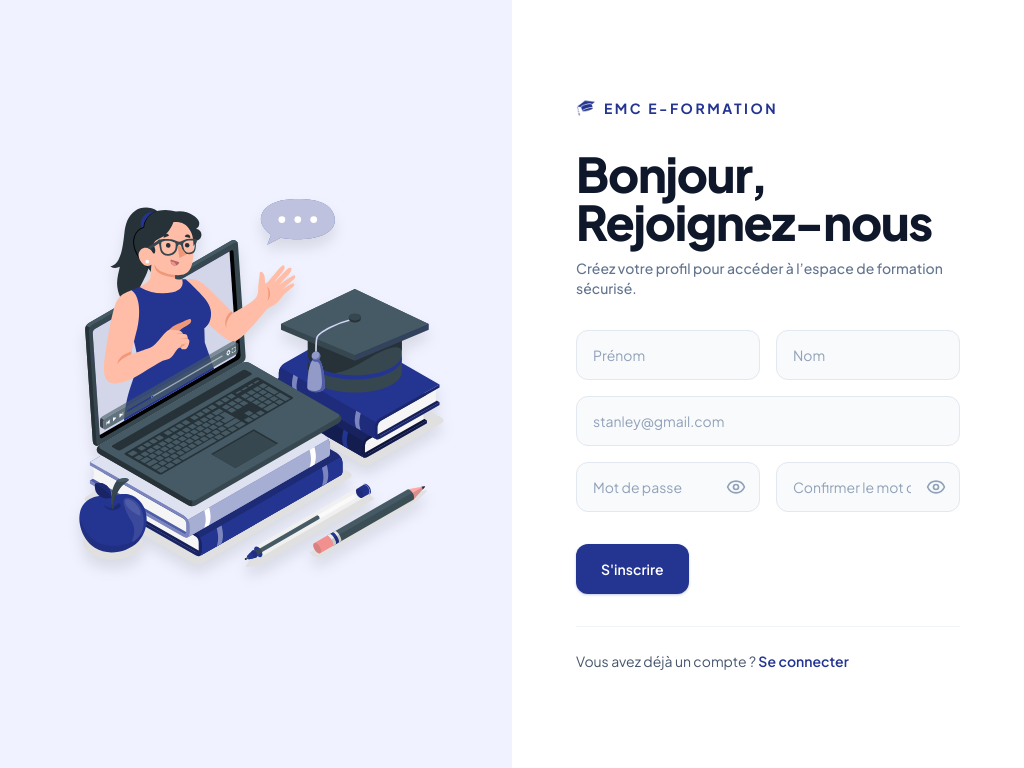
Test case: Intégration — authentification › crée un compte et affiche le message d’activation
The image size is (1024, 768).
Type "Sara" into the field with placeholder "Prénom".
click(668, 354); type("Sara")  # box [576, 330, 760, 380]
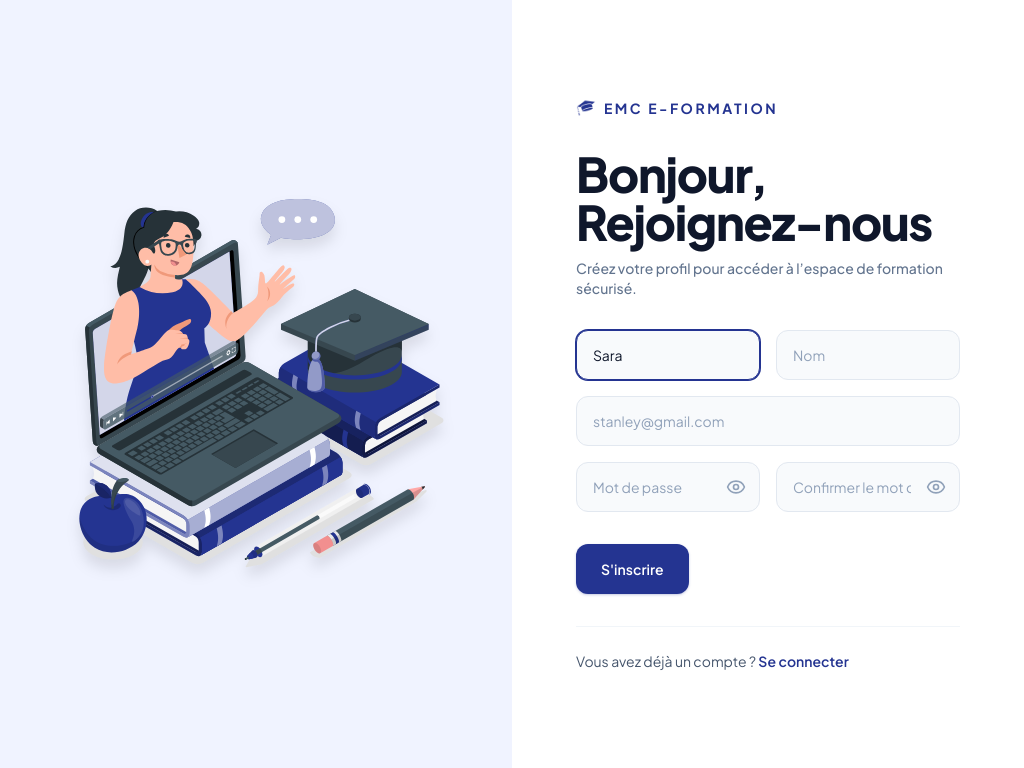
Type "Amrani" into the field with placeholder "Nom".
click(868, 354); type("Amrani")  # box [776, 330, 960, 380]
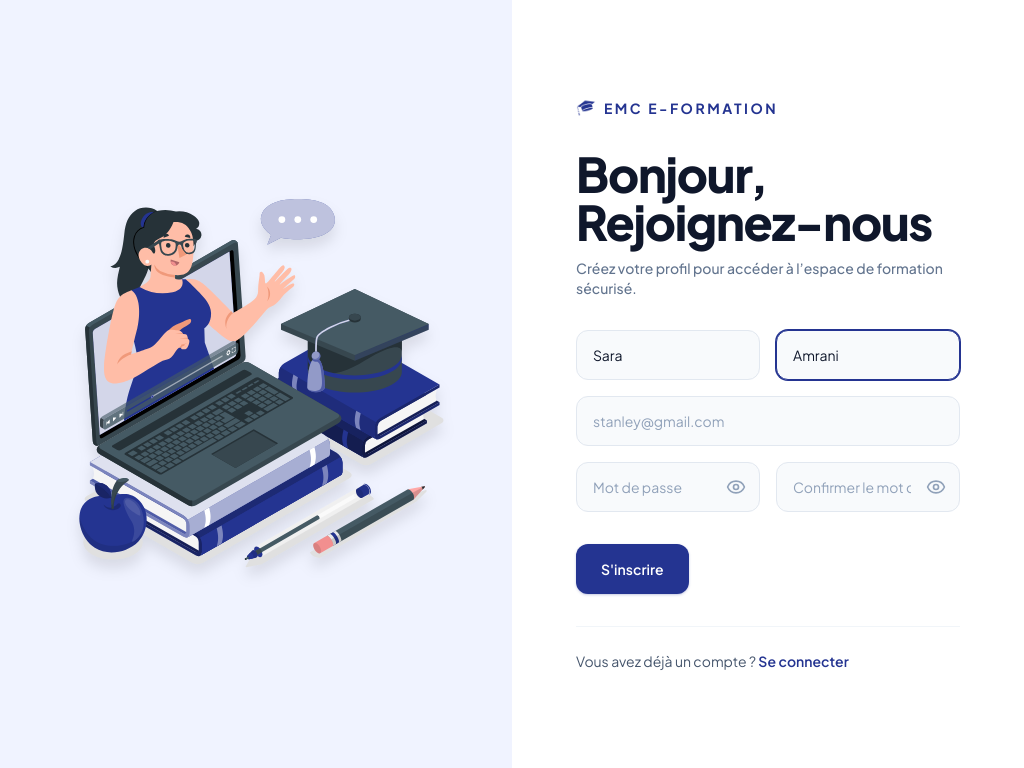
Type "sara@example.com" into the field with placeholder "stanley@gmail.com".
click(768, 420); type("sara@example.com")  # box [576, 396, 960, 446]
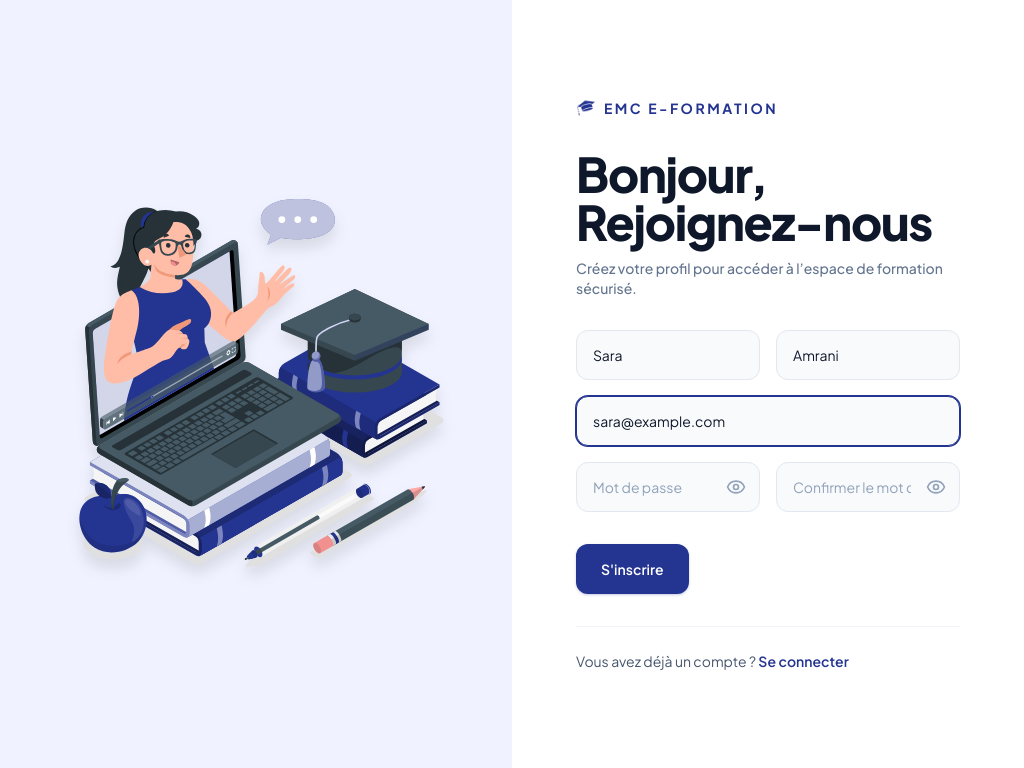
Type "Password1!" into the password field with placeholder "Mot de passe".
click(668, 486); type("Password1!")  # box [576, 462, 760, 512]
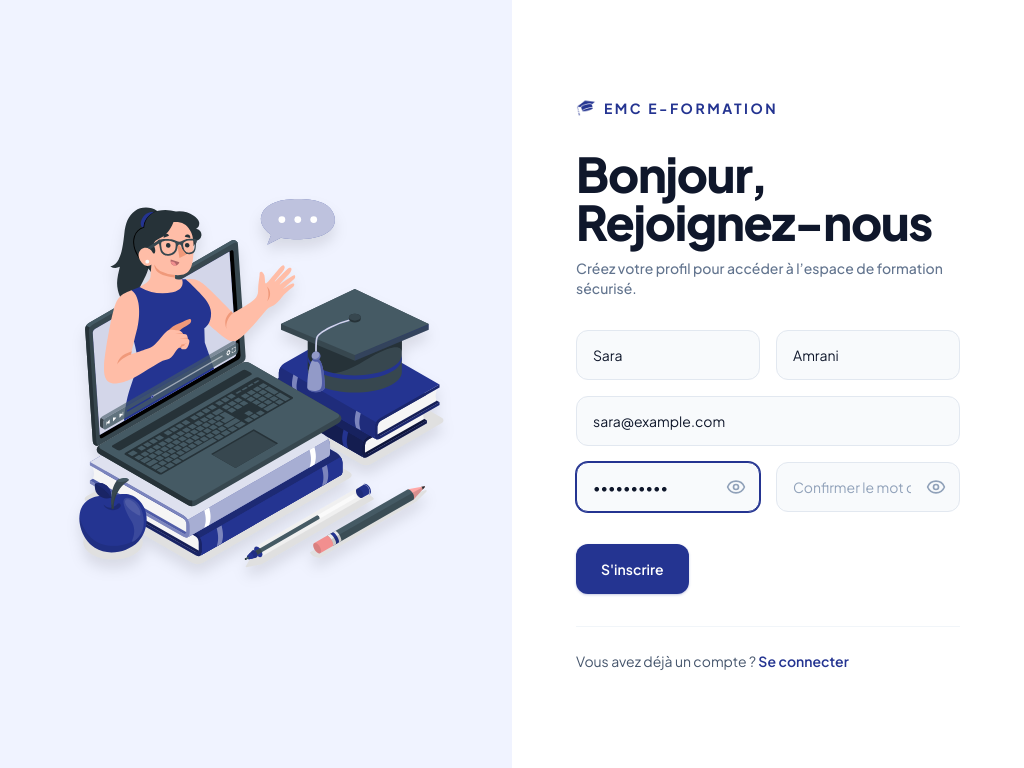
Type "Password1!" into the password field with placeholder "Confirmer le mot de passe".
click(868, 486); type("Password1!")  # box [776, 462, 960, 512]
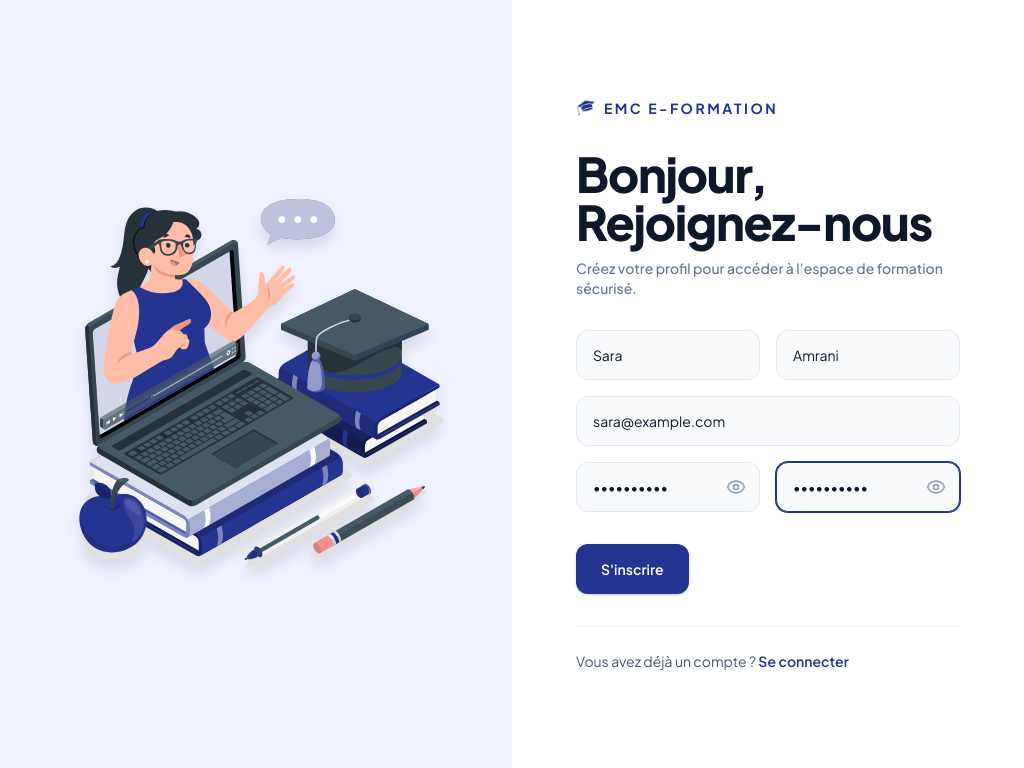
Click the button "S'inscrire".
click(632, 568)  # box [576, 544, 688, 594]
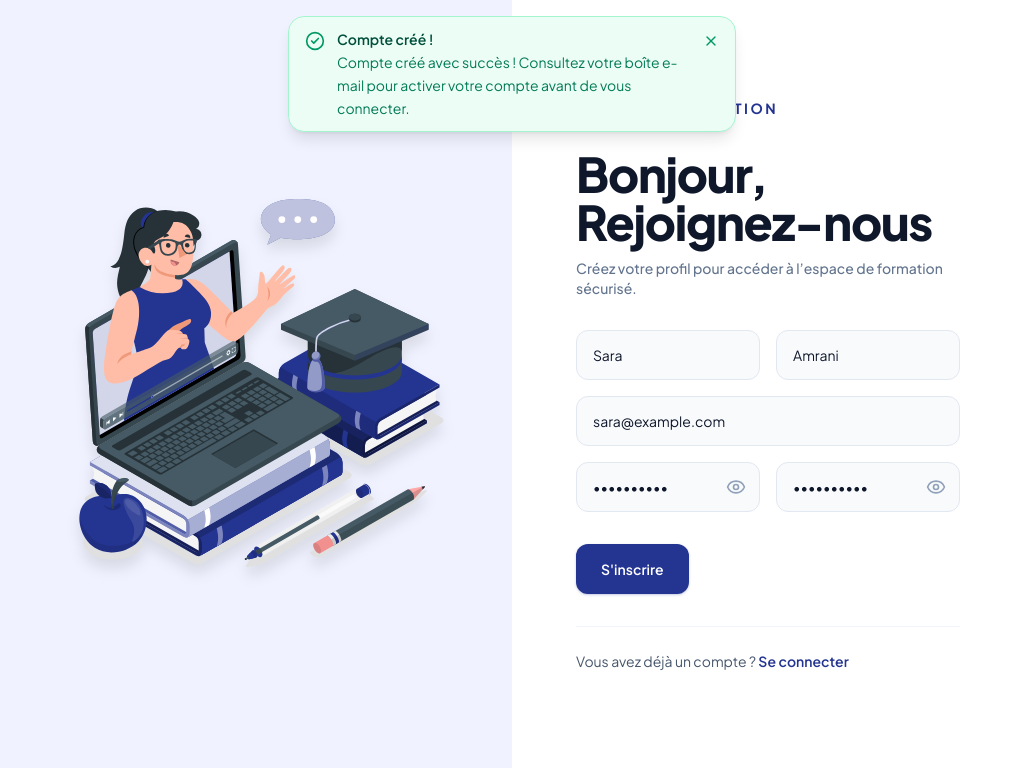
Check: the text "Compte créé !" is shown, box [337, 30, 434, 48]
Check: the text "Consultez votre boîte e-mail pour activer votre compte" is shown, box [337, 53, 678, 116]
